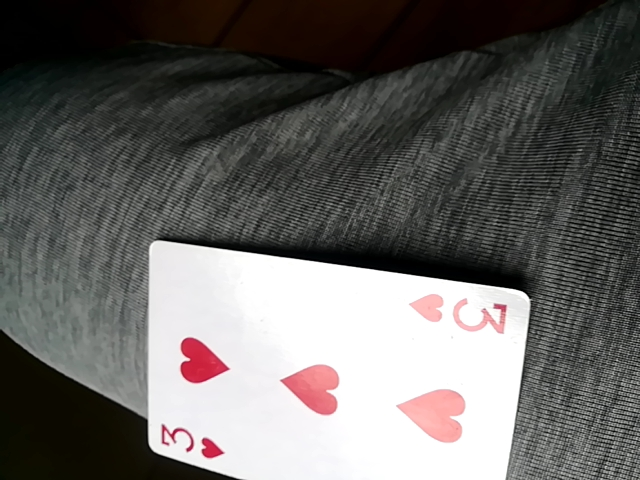hx 3: (144, 236, 528, 478)
